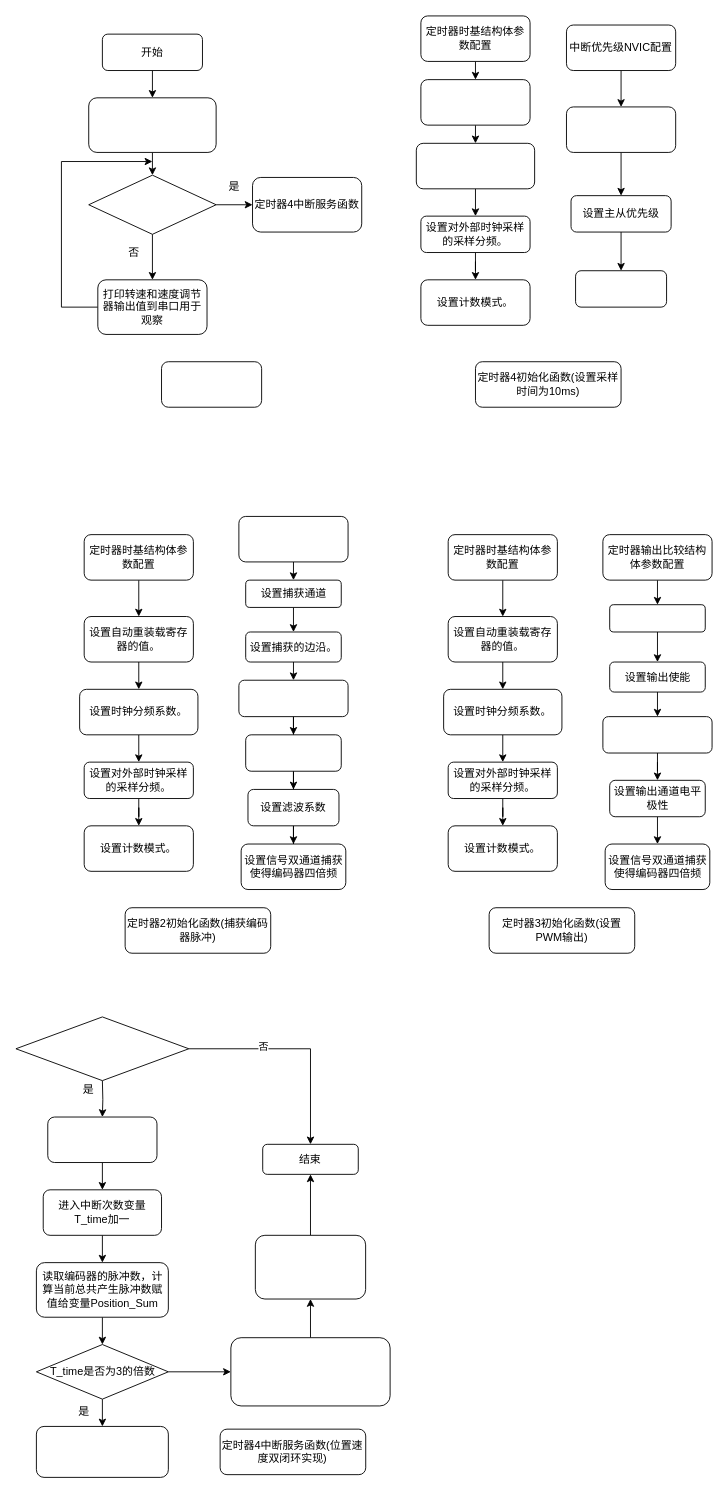
The diagram is 728 pixels wide and 1493 high, and some of its shapes have lost their labels. The box of each missing label's shape, as (x1, y1, x2, y2) in pixels:
main函数: (161, 361, 262, 407)
使能中断通道: (575, 270, 667, 307)
判断中断标志位是否产生中断: (15, 1016, 189, 1081)
定时器2、3、4初始化，串口初始化，电机参数初始化: (88, 97, 216, 152)
定时器输入捕获结构体参数配置: (238, 516, 348, 562)
将速度调节器输出值赋值给定时器3的CCR2寄存器，控制PWM占空比: (254, 1234, 366, 1299)
时间是否经过10ms: (88, 174, 216, 234)
清除中断标志位: (47, 1116, 157, 1163)
计算当前转速值,将位置环输出值作为期望速度调用速度PID函数，返回速度控制量并且限幅: (230, 1337, 390, 1406)
设置中断优先级组别: (566, 106, 676, 152)
设置信号分频: (245, 734, 341, 771)
设置占空比: (602, 716, 712, 753)
设置捕获通道信号来源。: (238, 679, 348, 717)
设置时钟分频系数为71。: (415, 142, 535, 189)
设置模式为PWM1: (609, 604, 705, 632)
设置自动重装载寄存器的值为9999。: (420, 79, 530, 125)
调用位置PID函数返回位置输出量给p_Pid_Out并限幅: (35, 1426, 168, 1477)
